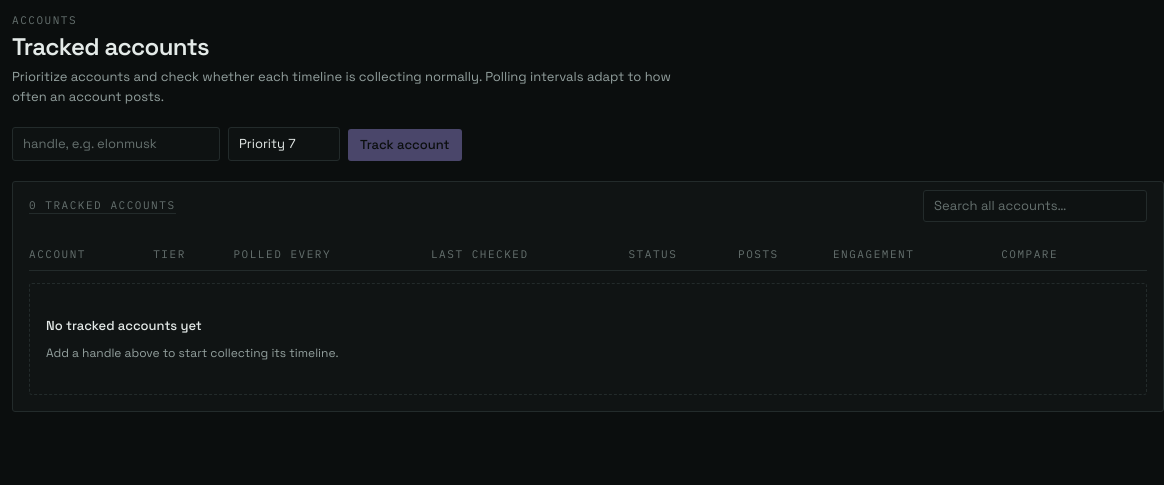
Test: tracking a new account › reports a rejected handle without clearing the field
Expected: the button "Track account" is shown, [348,128,462,160]
Step 1. Type "nope" into the field named "Account handle" → [116, 144], box [12,126,220,160]
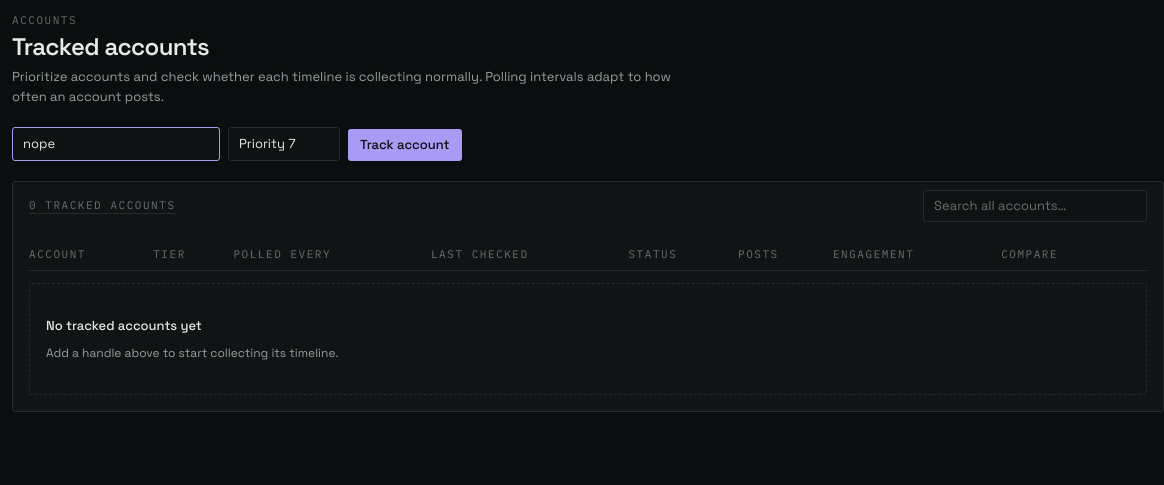
Step 2. Click the button "Track account" → [405, 144], box [348,128,462,160]
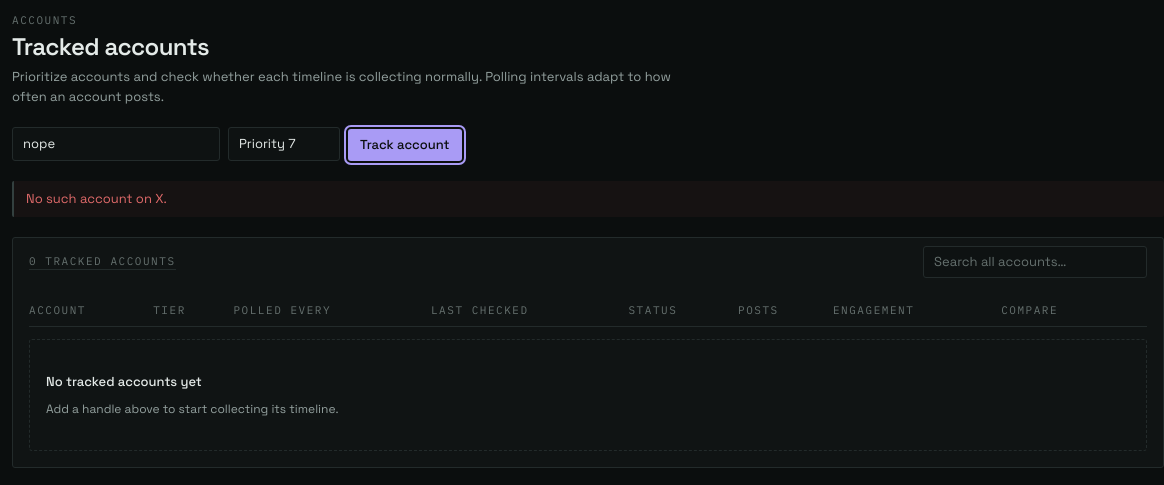
Result: the text "No such account on X." is shown at [12,180,1163,216]
